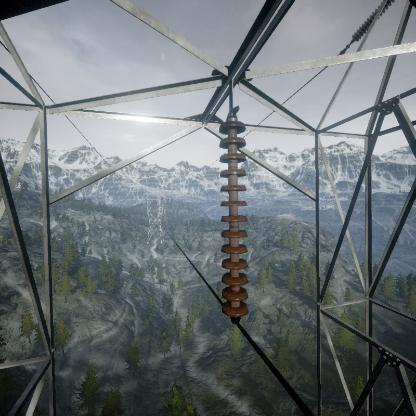insulator: (218, 112, 251, 321)
